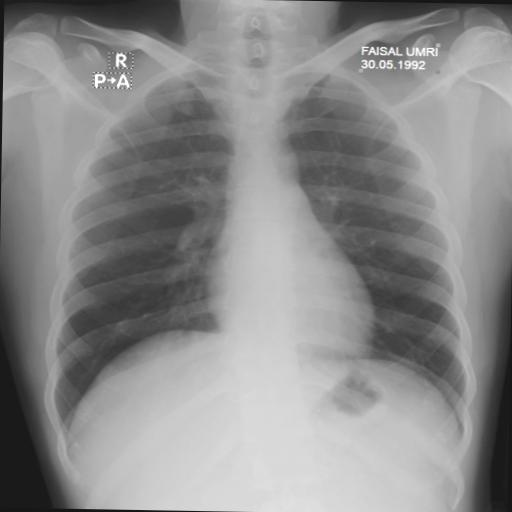normal: (44, 36, 486, 450)
